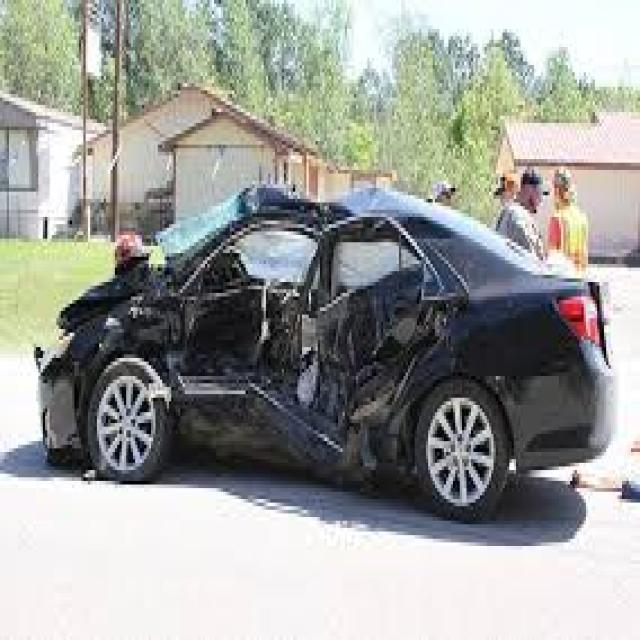Severe Damage: (64, 209, 560, 555)
